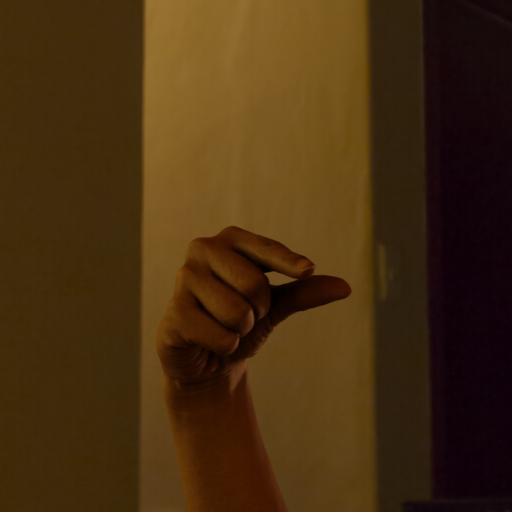G: (146, 216, 370, 492)
